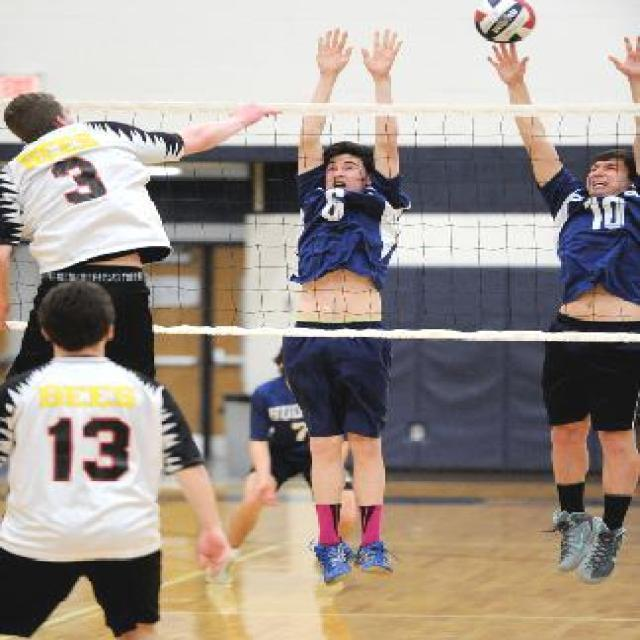volleyball: (474, 0, 535, 42)
